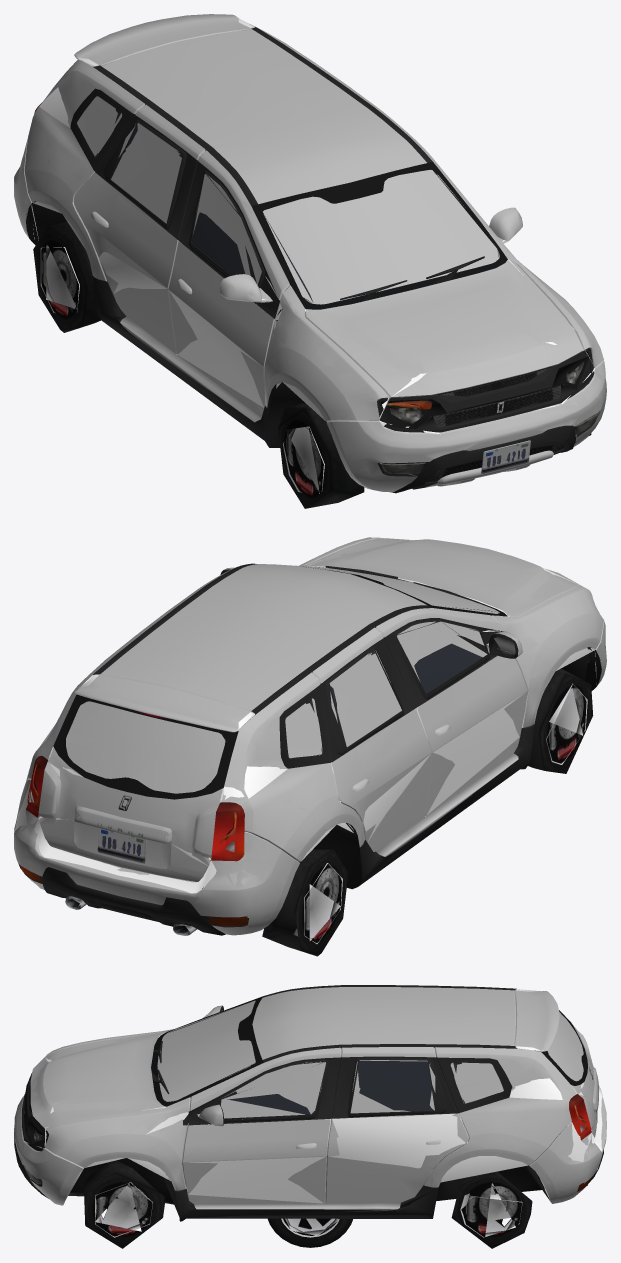
File: urban.glb
3 views of the same model, one above another, from view 1: azimuth 30°, elevation 25°; view 2: azimuth 150°, elevation 25°; view 3: azimuth 270°, elevation 25° (orthographic). The views are drawn at different scales.
Parts seen in each view (by area): view 1: paint0, far, paint1, kit0, glass1, glass0, kit1; view 2: paint0, far, paint1, kit0, glass0, glass1, kit1; view 3: paint0, far, paint1, kit0, glass0, glass1, kit1, wheel0, wheel1.
Boxes of the visible parts, <box> form: paint0: <box>14,14,606,492</box>; far: <box>29,18,594,508</box>; paint1: <box>14,20,606,489</box>; kit0: <box>26,27,600,493</box>; glass1: <box>77,103,486,298</box>; glass0: <box>77,96,499,304</box>; kit1: <box>29,95,596,482</box>; paint0: <box>14,537,606,934</box>; far: <box>14,538,596,956</box>; paint1: <box>14,538,606,935</box>; kit0: <box>18,563,601,935</box>; glass0: <box>66,566,499,791</box>; glass1: <box>72,564,487,793</box>; kit1: <box>29,567,601,932</box>; paint0: <box>14,987,606,1205</box>; far: <box>22,989,602,1248</box>; paint1: <box>15,987,606,1205</box>; kit0: <box>14,985,603,1221</box>; glass0: <box>157,1000,583,1119</box>; glass1: <box>157,1001,583,1118</box>; kit1: <box>14,987,597,1216</box>; wheel0: <box>268,1218,352,1247</box>; wheel1: <box>282,1218,336,1236</box>.
Bounding box in the file's own units: 1.88 × 1.85 × 4.29.
Materials: 1 (1 with a texture image).
